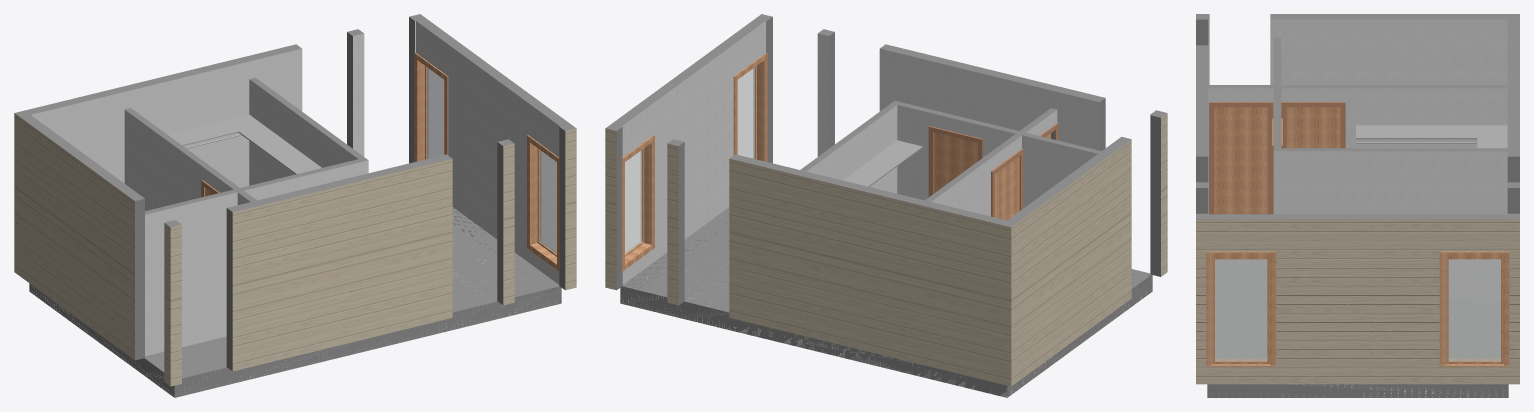
Rendered from Dwelling_tag.glb.
3 renders of one model, left to right at view 1: azimuth 30°, elevation 25°; view 2: azimuth 150°, elevation 25°; view 3: azimuth 270°, elevation 25°, orthographic. The views are drawn at different scales.
Parts seen in each view (by area): view 1: External_Wall1, External_Wall8, Basic_Wall_573296, Basic_Wall_573502, Floor1, Basic_Wall_575317, Basic_Wall_575159, Basic_Wall_575435, Fixed_with_Trim_576020, Fixed_with_Trim_576196, External_Wall9, Basic_Wall_573675 (+10 smaller); view 2: External_Wall6, External_Wall8, Basic_Wall_573502, Floor1, Basic_Wall_573954, Basic_Wall_575317, Fixed_with_Trim_576196, Basic_Wall_575435, Basic_Wall_575159, Fixed_with_Trim_576020, Single-Flush_575551, Basic_Wall_574012 (+11 smaller); view 3: External_Wall4, Basic_Wall_575435, Basic_Wall_573675, Floor1, Basic_Wall_575159, Fixed_with_Trim_576020, Fixed_with_Trim_576196, Single-Flush_575491, Single-Flush_575628, SubPart_1_2, Basic_Wall_573296, External_Wall3 (+8 smaller).
Boxes of the visible parts, x1=… form: External_Wall1: x1=232, y1=158, x2=452, y2=371; External_Wall8: x1=20, y1=117, x2=134, y2=359; Basic_Wall_573296: x1=15, y1=44, x2=302, y2=187; Basic_Wall_573502: x1=416, y1=18, x2=569, y2=284; Floor1: x1=29, y1=207, x2=561, y2=397; Basic_Wall_575317: x1=145, y1=157, x2=368, y2=356; Basic_Wall_575159: x1=124, y1=108, x2=256, y2=210; Basic_Wall_575435: x1=249, y1=77, x2=364, y2=185; Fixed_with_Trim_576020: x1=527, y1=135, x2=559, y2=271; Fixed_with_Trim_576196: x1=414, y1=53, x2=448, y2=161; External_Wall9: x1=164, y1=223, x2=181, y2=386; Basic_Wall_573675: x1=21, y1=115, x2=144, y2=360; External_Wall6: x1=729, y1=158, x2=1017, y2=386; External_Wall8: x1=1017, y1=139, x2=1131, y2=381; Basic_Wall_573502: x1=612, y1=18, x2=765, y2=284; Floor1: x1=620, y1=207, x2=1152, y2=397; Basic_Wall_573954: x1=879, y1=44, x2=1105, y2=150; Basic_Wall_575317: x1=891, y1=101, x2=1101, y2=208; Fixed_with_Trim_576196: x1=622, y1=135, x2=654, y2=271; Basic_Wall_575435: x1=800, y1=103, x2=897, y2=193; Basic_Wall_575159: x1=925, y1=108, x2=1057, y2=216; Fixed_with_Trim_576020: x1=733, y1=53, x2=767, y2=161; Single-Flush_575551: x1=928, y1=126, x2=982, y2=196; Basic_Wall_574012: x1=817, y1=29, x2=834, y2=156; External_Wall4: x1=1208, y1=219, x2=1507, y2=384; Basic_Wall_575435: x1=1281, y1=148, x2=1507, y2=297; Basic_Wall_573675: x1=1270, y1=14, x2=1507, y2=84; Floor1: x1=1207, y1=259, x2=1508, y2=397; Basic_Wall_575159: x1=1208, y1=85, x2=1507, y2=214; Fixed_with_Trim_576020: x1=1206, y1=251, x2=1276, y2=366; Fixed_with_Trim_576196: x1=1439, y1=251, x2=1509, y2=366; Single-Flush_575491: x1=1209, y1=102, x2=1273, y2=214; Single-Flush_575628: x1=1281, y1=102, x2=1345, y2=148; SubPart_1_2: x1=1356, y1=125, x2=1507, y2=143; Basic_Wall_573296: x1=1507, y1=14, x2=1519, y2=182; External_Wall3: x1=1196, y1=219, x2=1208, y2=384.
Size of the model in its own units: 7.34 by 3.05 by 4.88.
Materials: 21 (13 with a texture image).
